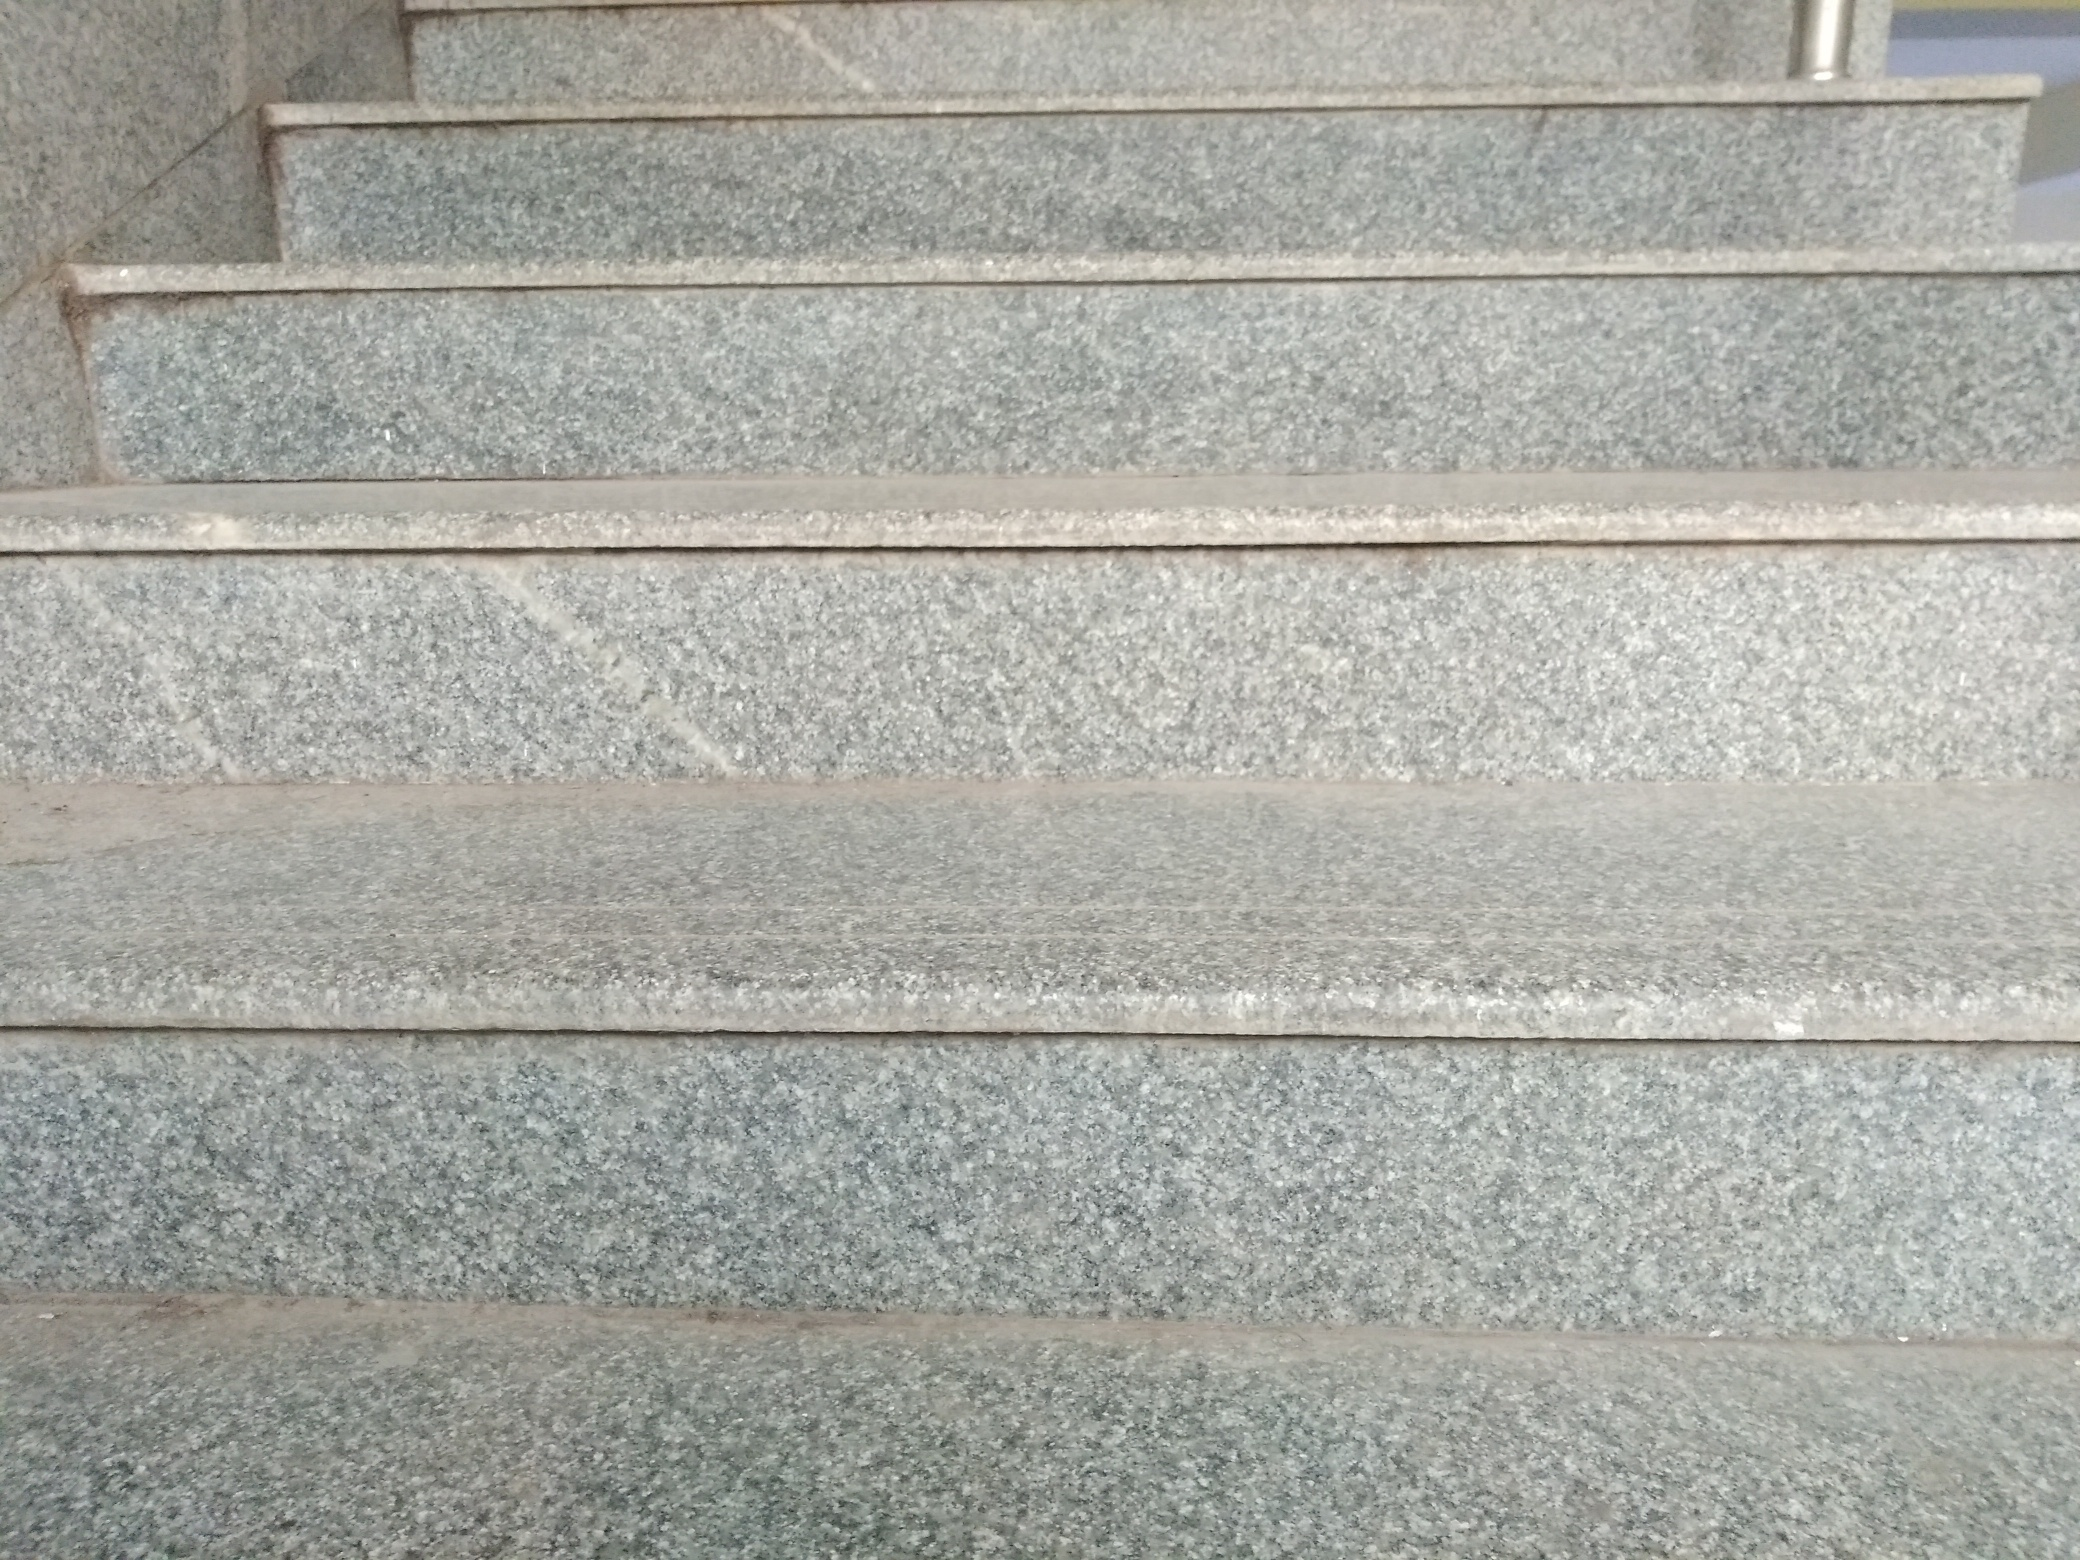stairs_up: (29, 21, 2080, 1344)
